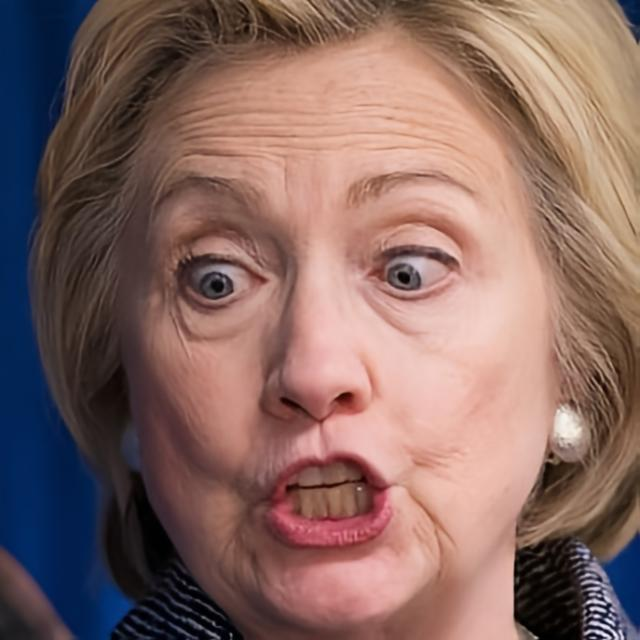surprise: (111, 14, 557, 640)
